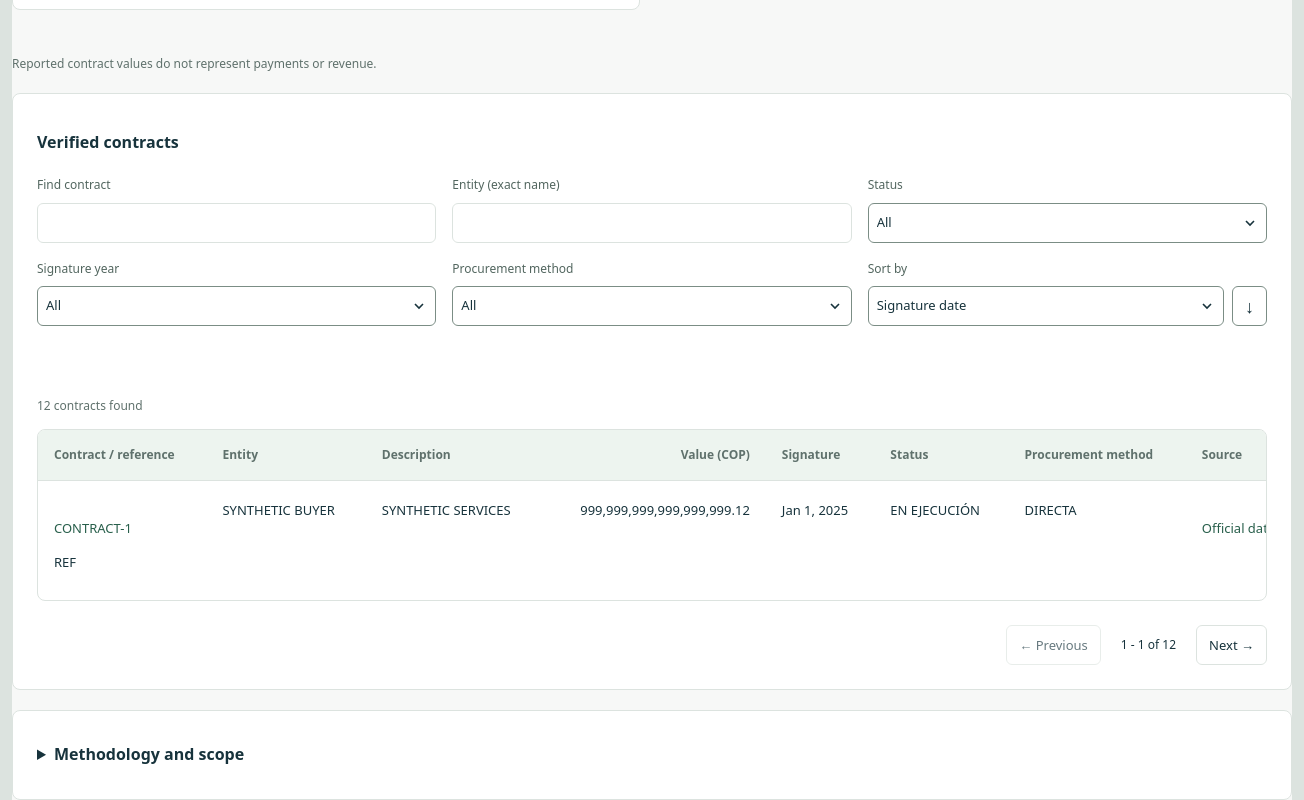
Scenario: sort direction button toggles direction and resets pagination
This screenshot has width=1304, height=800.
Later steps or results of the test are not shown.
(page scrolled)
Click the button "Next →".
click(1232, 645)  # box [1196, 625, 1267, 665]
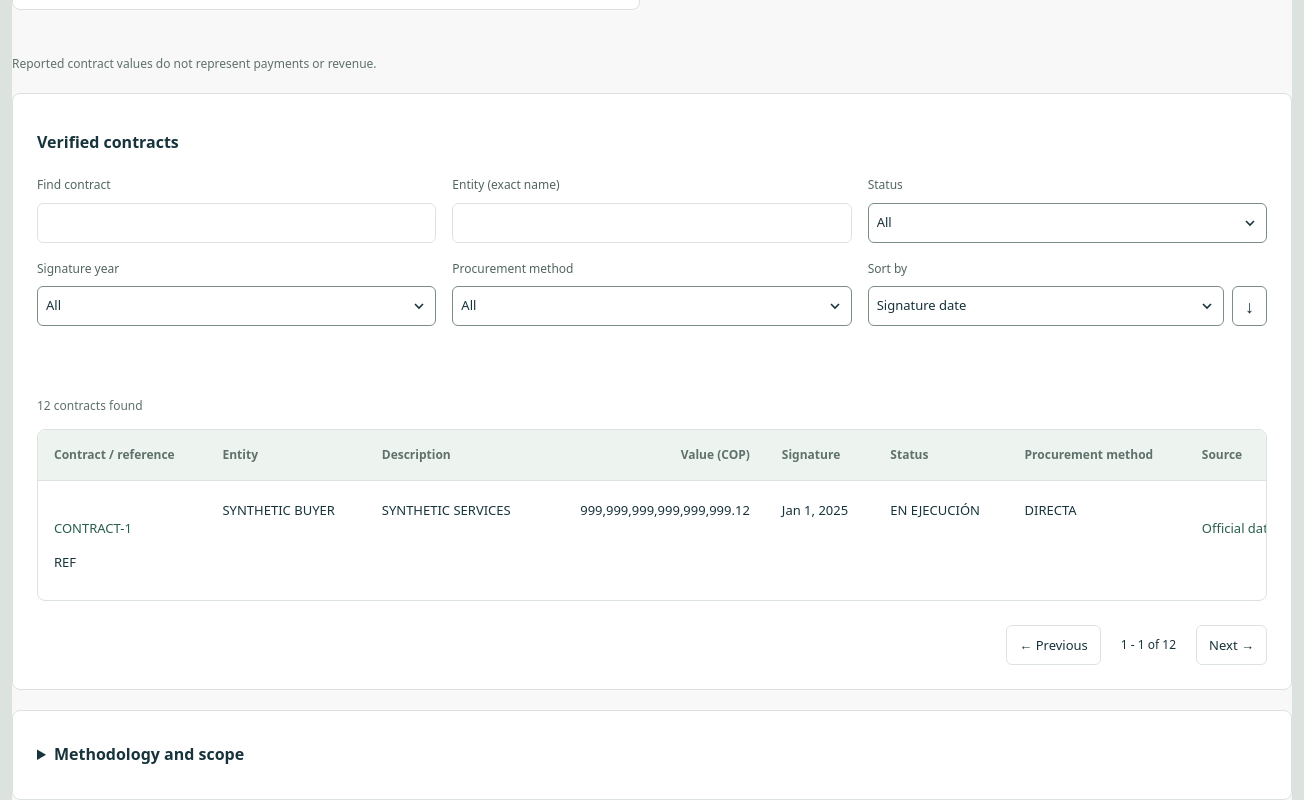
Click the button named "Descending order. Switch to ascending".
click(1250, 306)  # box [1232, 286, 1267, 326]
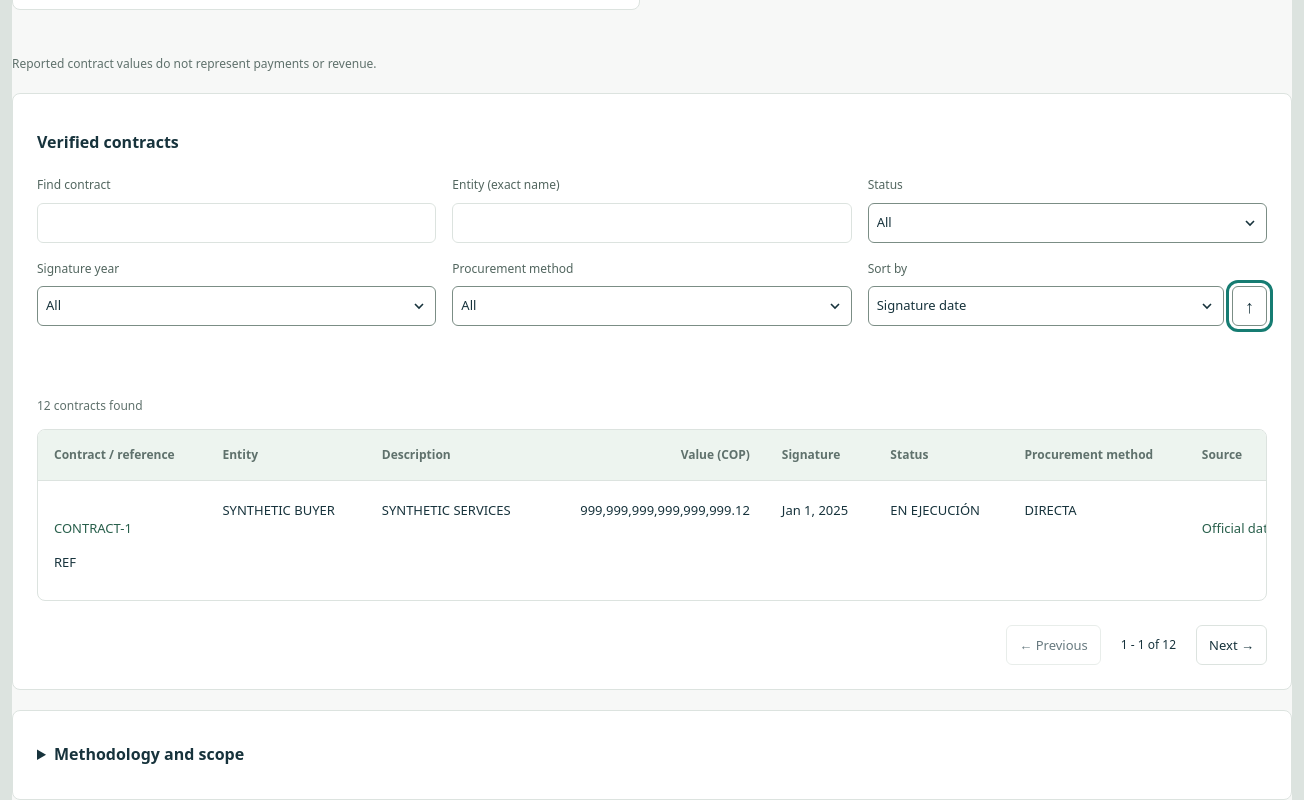
Expected: the button named "Ascending order. Switch to descending" is shown, [1232, 286, 1267, 326]
